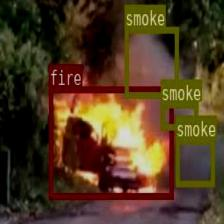fire: (48, 85, 172, 199)
smoke: (124, 26, 177, 97), (176, 137, 214, 186), (160, 101, 197, 129)
